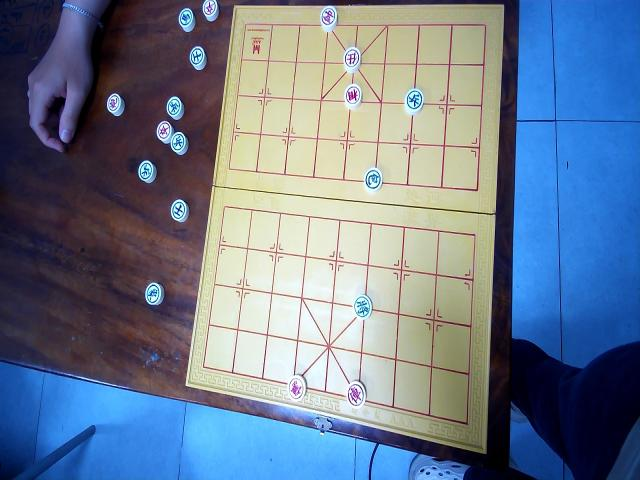piece: (346, 380, 366, 409), (404, 87, 424, 115), (342, 45, 362, 72), (287, 373, 307, 400), (144, 281, 164, 306), (343, 82, 362, 108), (353, 292, 372, 318), (364, 166, 382, 192), (170, 198, 189, 222), (166, 95, 184, 120), (320, 4, 336, 31), (106, 92, 124, 116), (170, 131, 188, 155), (189, 45, 206, 70), (178, 7, 195, 32), (138, 159, 156, 182), (156, 120, 172, 143), (202, 0, 219, 21)
